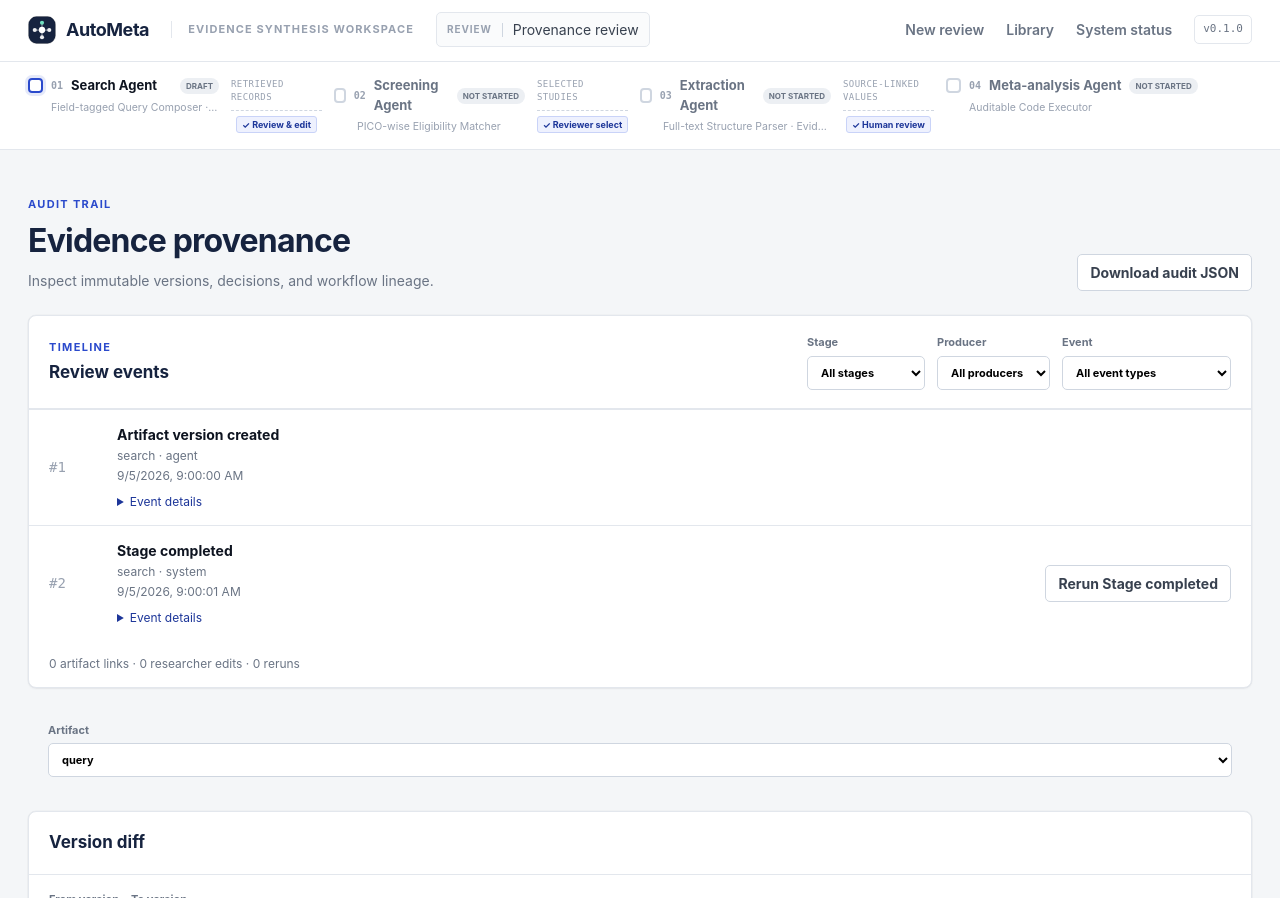
Test: ProvenancePage › shows ordered events, deterministic version diffs, export, and confirmed reruns
The image size is (1280, 898).
Expected: the heading "Evidence provenance" is shown, [28,221,350,260]
Expected: the text "Artifact version created" is shown, [117,426,279,443]
Select "Agent" in the dropdown named "Filter by producer" at point(994, 373), box [937,356,1050,390]
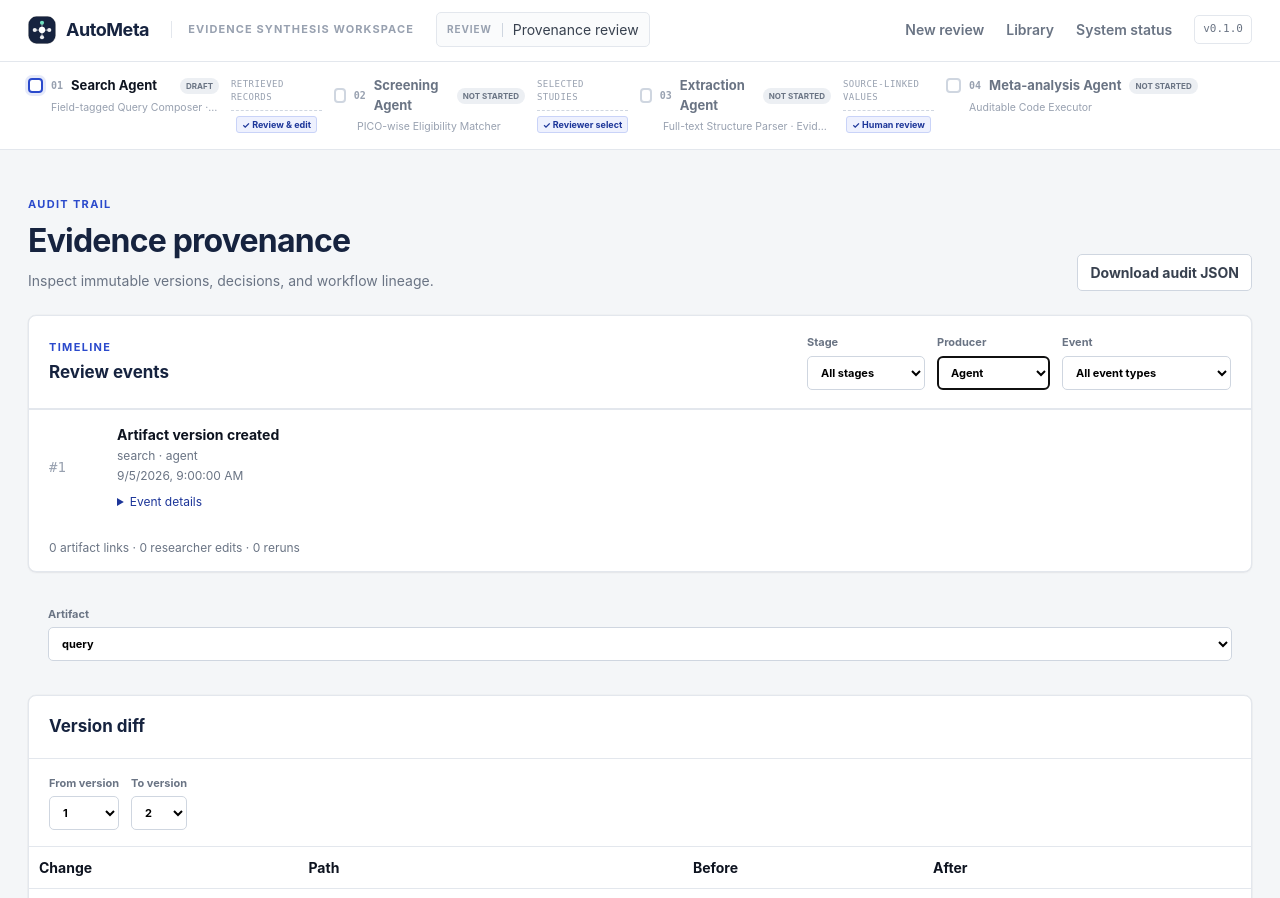
Expected: the text "Stage completed" is gone
Select "All producers" in the dropdown named "Filter by producer" at point(994, 373), box [937,356,1050,390]
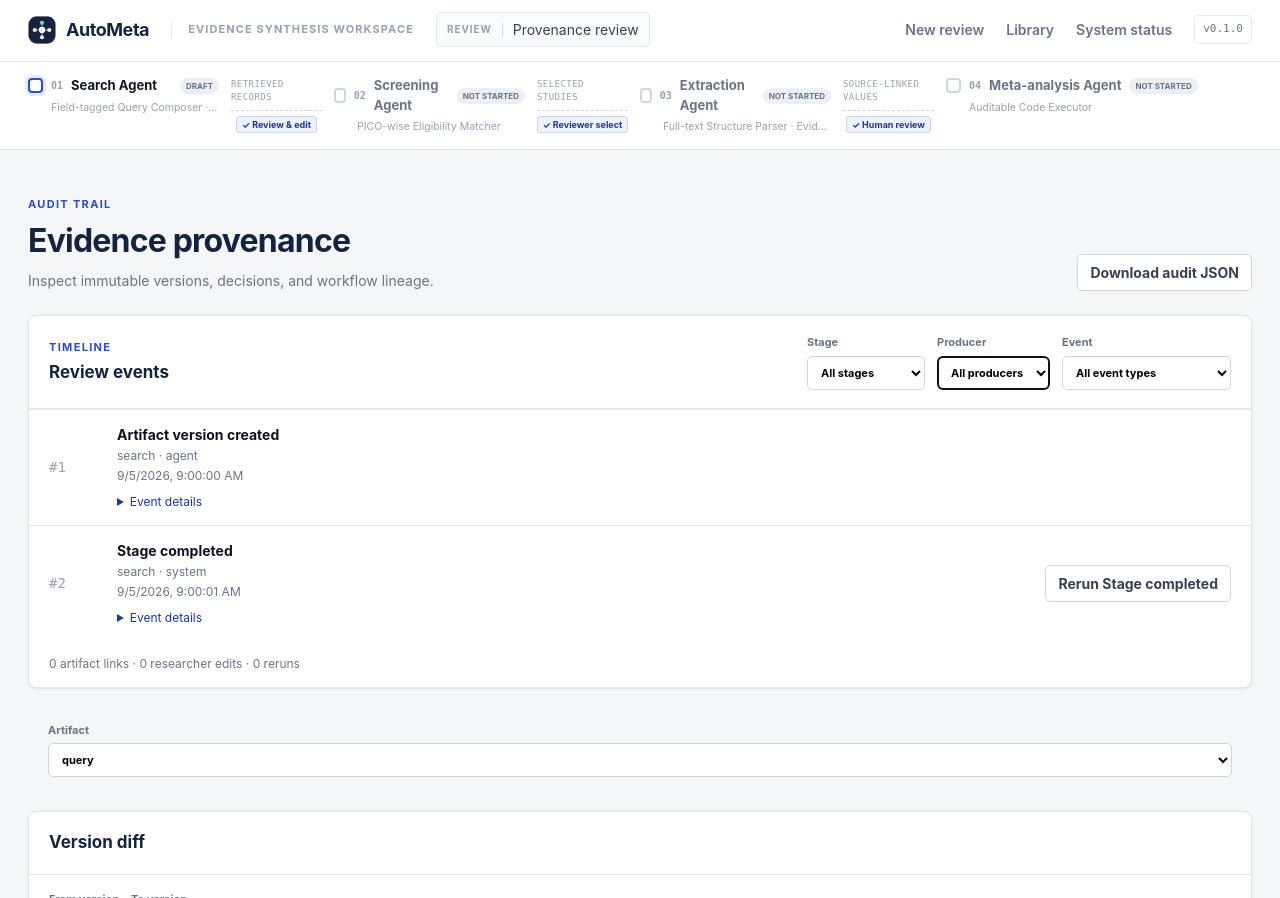
Click the heading "Event details" below "9/5/2026, 9:00:00 AM" at point(166, 501), box [130,494,202,509]
(page scrolled)
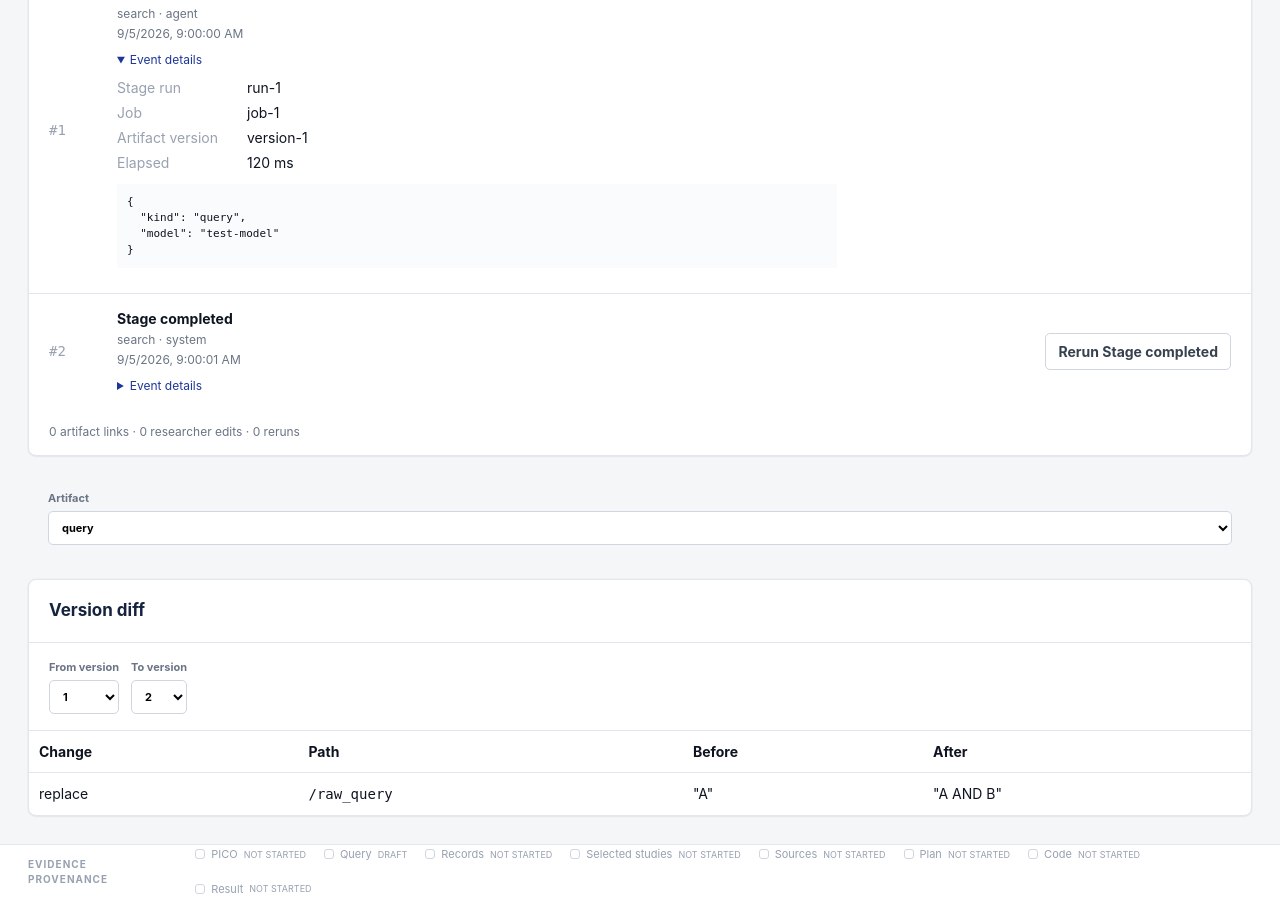
Expected: the text "{ \"kind\": \"query\", \"model\": \"test-model\" }" is shown, [117,184,837,268]
Select "1" in the dropdown labelled "From version" at point(84, 697), box [49,680,119,714]
Select "2" in the dropdown labelled "To version" at point(159, 697), box [131,680,187,714]
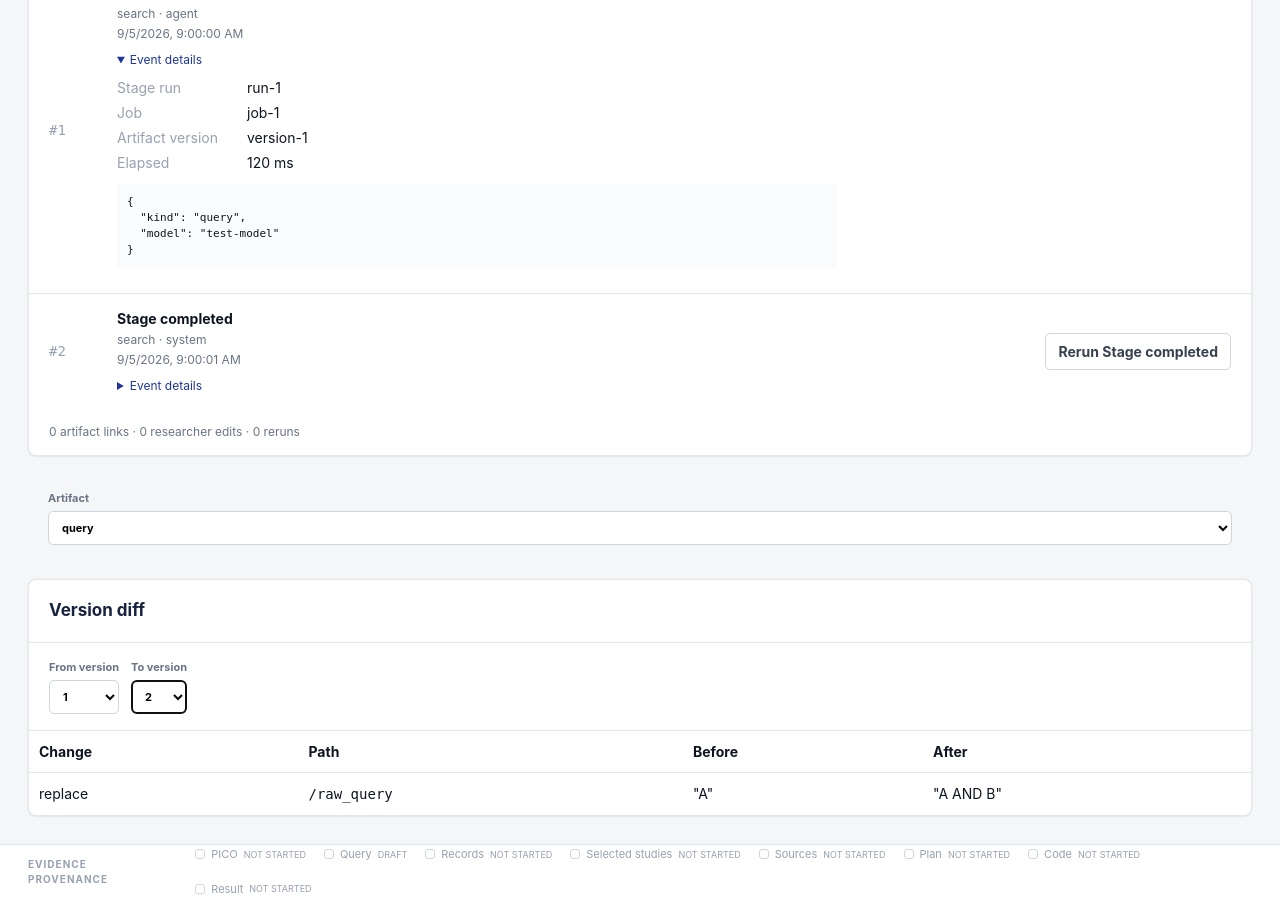
Expected: the text "/raw_query" is shown, [308,786,393,802]
Expected: the text "\"A AND B\"" is shown, [923,772,1251,815]
Click the button "Rerun Stage completed" at point(1138, 351), box [1046,332,1231,370]
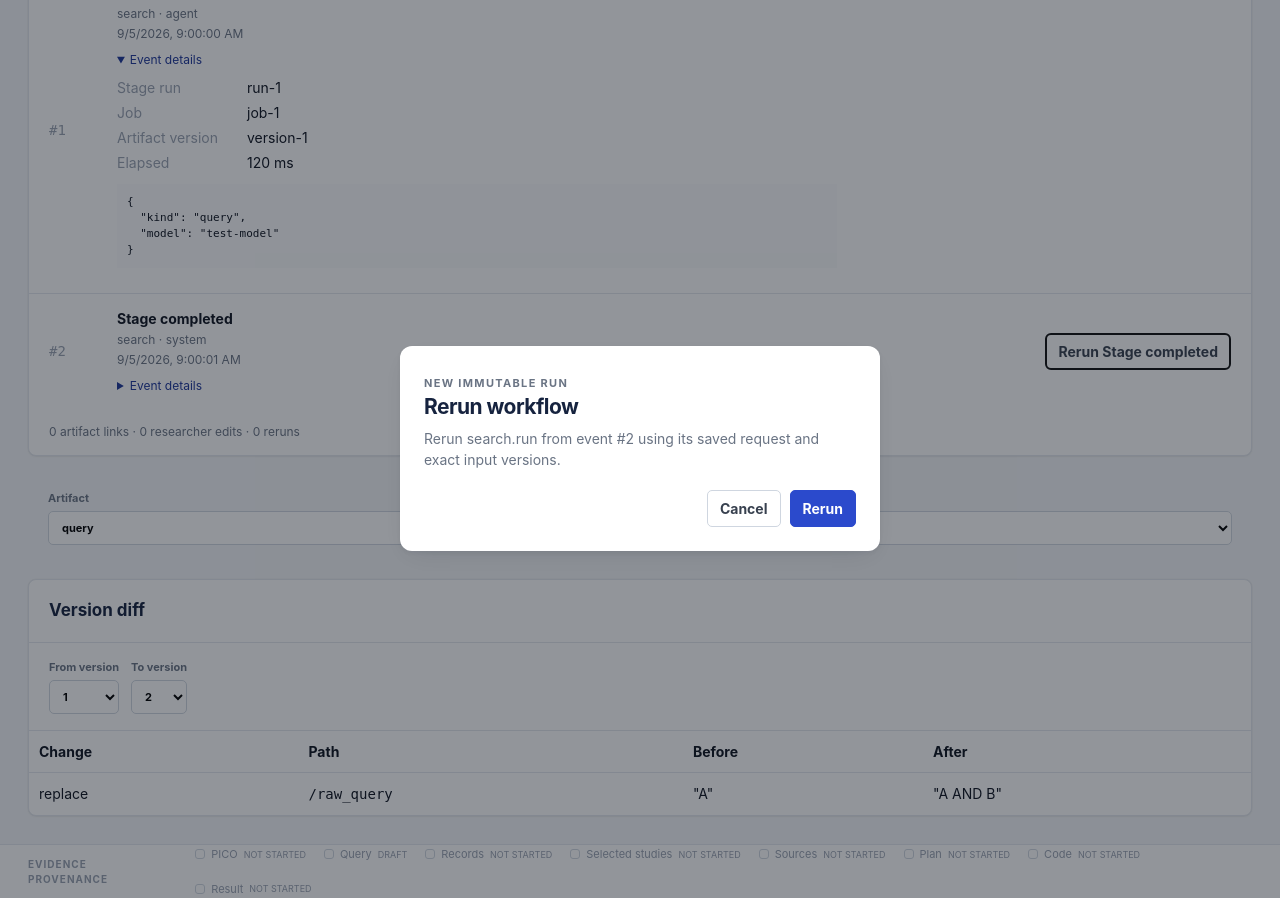
Click the button "Rerun" at point(823, 508), box [790,490,856,526]
(page scrolled)
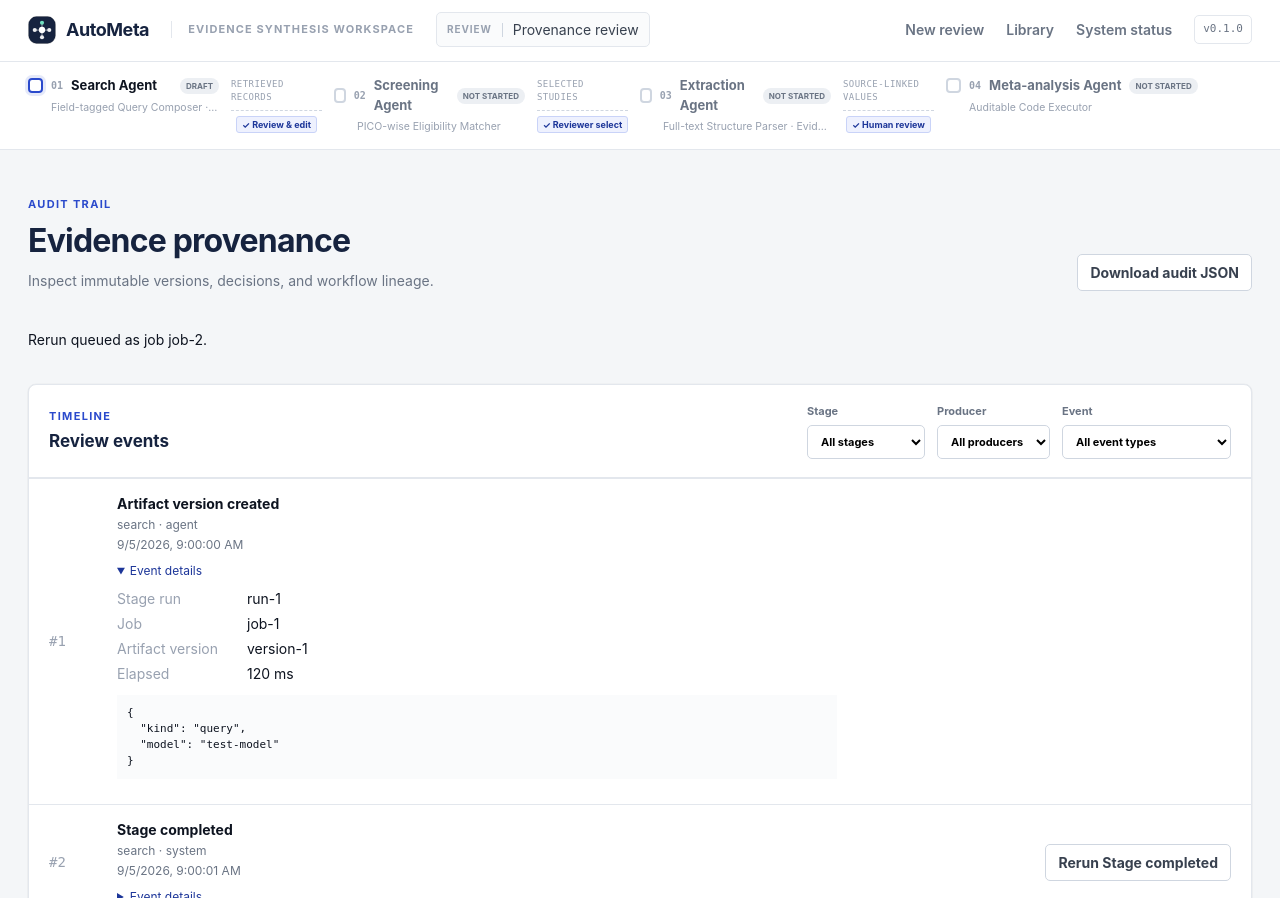
Expected: the text "Rerun queued as job job-2." is shown, [28,331,207,348]
